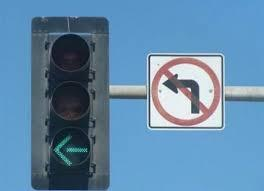no_left_turn: (150, 56, 220, 125)
